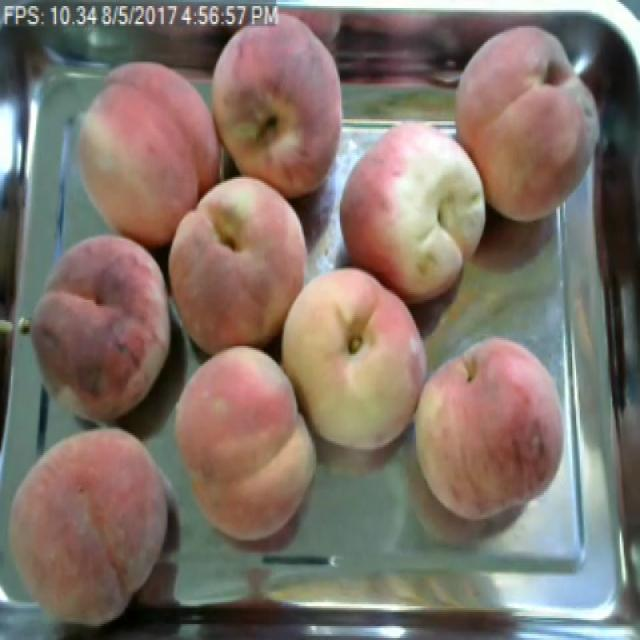Fruit: (433, 6, 612, 238), (0, 413, 181, 639), (12, 221, 184, 441), (401, 326, 579, 533), (265, 253, 439, 461), (325, 121, 507, 318), (164, 336, 328, 548), (68, 52, 235, 254), (200, 6, 357, 215), (167, 165, 321, 362)
